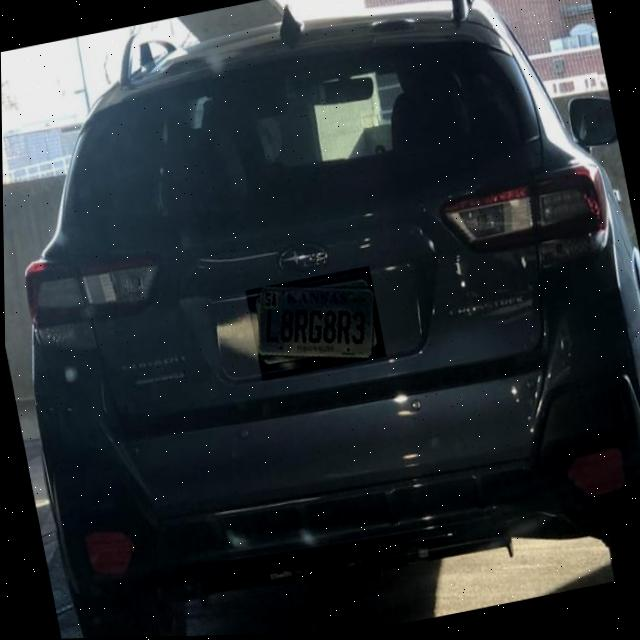LicensePlate: (257, 289, 373, 361)
